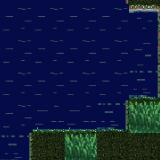Interaction: (47, 123, 143, 145), (25, 123, 47, 160), (124, 94, 160, 112), (123, 0, 160, 16), (123, 112, 142, 122)
Slow: (28, 0, 122, 126), (0, 0, 29, 160), (123, 13, 154, 96), (129, 100, 160, 133), (64, 133, 97, 160)
